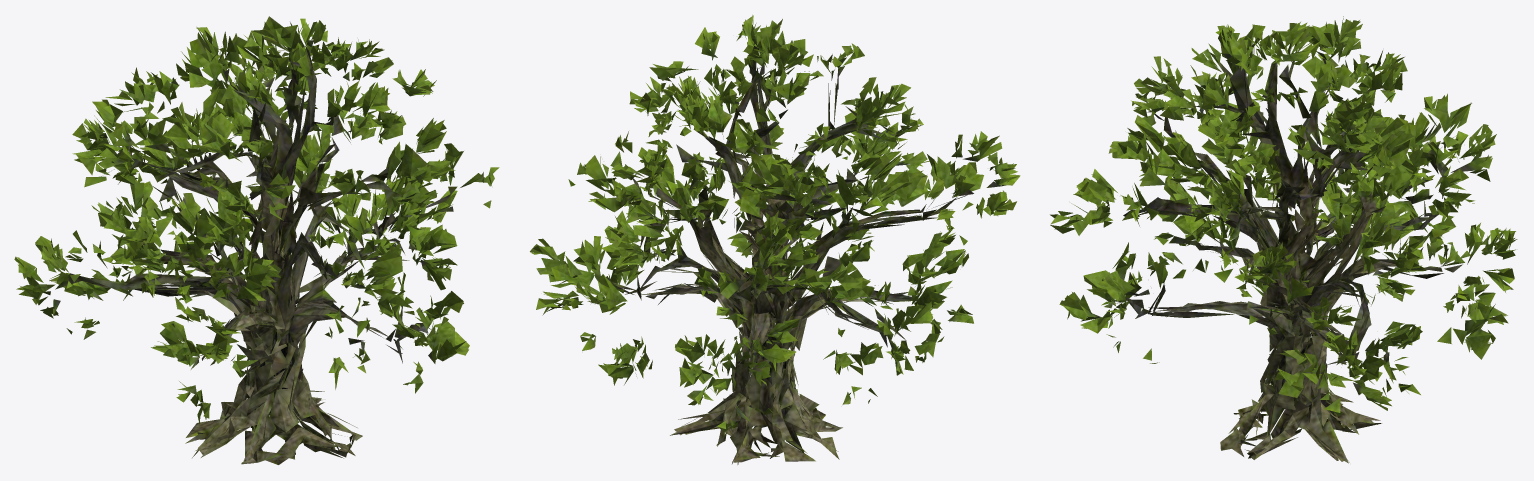
File: carvalho_aster_adulta.glb
3 renders of one model, left to right at view 1: azimuth 30°, elevation 25°; view 2: azimuth 150°, elevation 25°; view 3: azimuth 270°, elevation 25°, orthographic. The views are drawn at different scales.
Parts seen in each view (by area): view 1: geometry_0; view 2: geometry_0; view 3: geometry_0.
Boxes of the visible parts, bbox=[...] form: geometry_0: bbox=[14, 16, 499, 464]; geometry_0: bbox=[530, 15, 1020, 464]; geometry_0: bbox=[1050, 16, 1517, 463].
Size of the model in its own units: 0.9848 by 0.9393 by 0.9545.
1 material, 1 textured.
